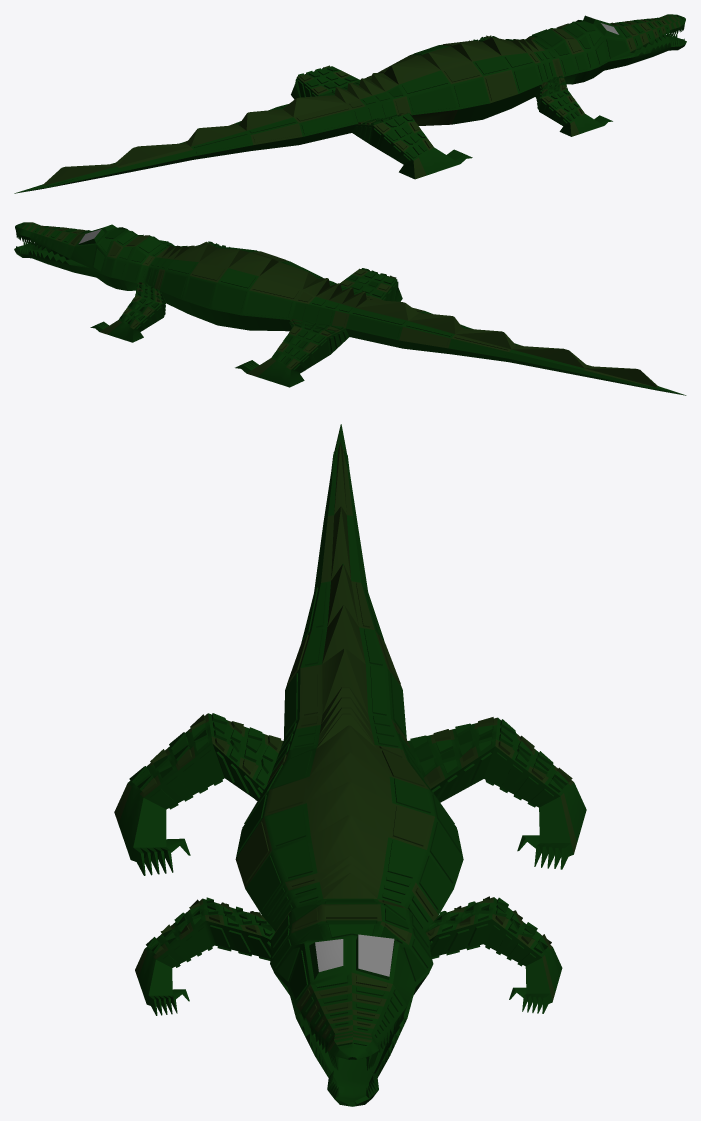
Rendered from cocodrilo.fbx.
3 renders of one model, top to bottom at view 1: azimuth 30°, elevation 25°; view 2: azimuth 150°, elevation 25°; view 3: azimuth 270°, elevation 25°, orthographic. The views are drawn at different scales.
Parts seen in each view (by area): view 1: Mesh; view 2: Mesh; view 3: Mesh.
Part boxes in pixels (x1,y1,x2,y2): Mesh: (14,14,686,193); Mesh: (14,222,686,395); Mesh: (114,424,586,1106).
Size of the model in its own units: 1097 by 106 by 335.
